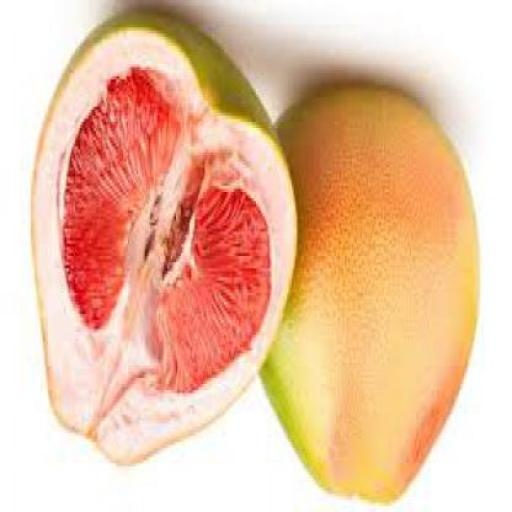biodegradable: (31, 9, 300, 472), (254, 80, 480, 506)
